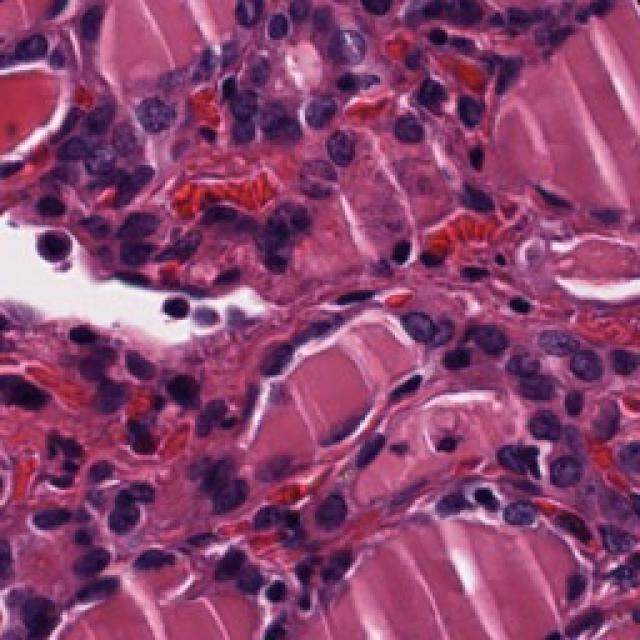normal: (311, 20, 372, 98), (458, 288, 518, 367), (53, 128, 120, 196), (388, 297, 449, 370), (484, 423, 544, 495), (127, 78, 185, 152), (303, 124, 374, 184), (303, 474, 361, 546), (98, 485, 163, 546), (522, 450, 591, 507), (507, 352, 569, 410), (237, 87, 299, 143), (561, 324, 612, 382), (208, 0, 274, 39)
